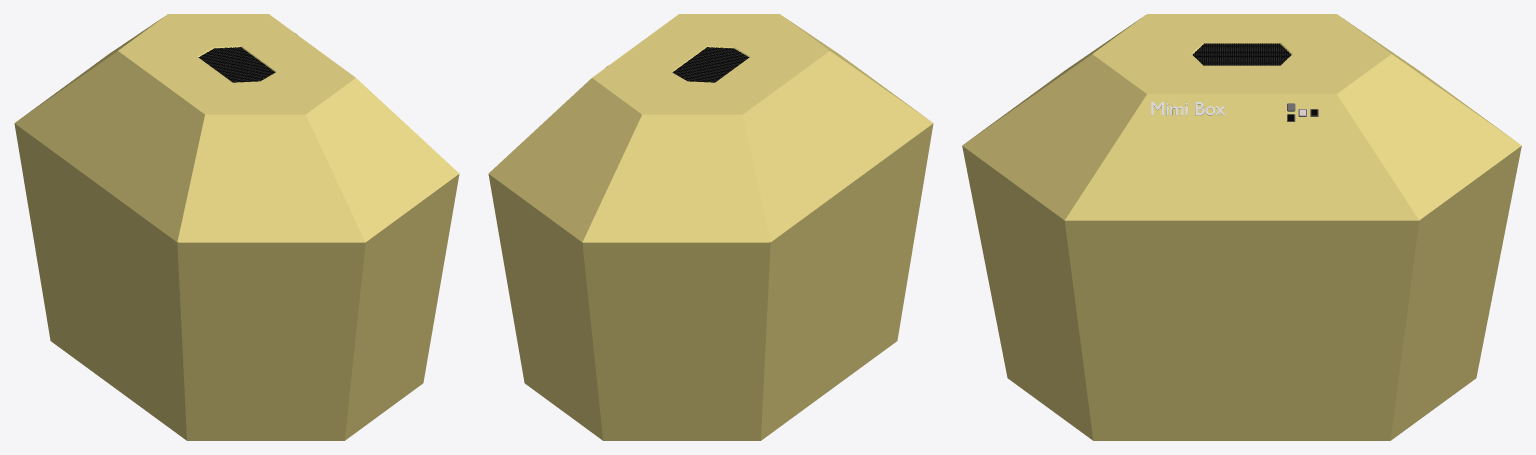
Rendered from Mimi box.glb.
The picture shows the model from 3 angles, left to right: view 1: azimuth 30°, elevation 25°; view 2: azimuth 150°, elevation 25°; view 3: azimuth 270°, elevation 25°; orthographic projection. The views are drawn at different scales.
Visible parts, largest first — view 1: Main Box, Speaker Grill; view 2: Main Box, Speaker Grill; view 3: Main Box, Speaker Grill.
Part boxes in pixels (bbox=[...]): Main Box: bbox=[14, 14, 459, 440]; Speaker Grill: bbox=[198, 47, 275, 82]; Main Box: bbox=[488, 14, 933, 440]; Speaker Grill: bbox=[672, 47, 749, 82]; Main Box: bbox=[962, 14, 1521, 440]; Speaker Grill: bbox=[1192, 43, 1291, 65].
Bounding box in the file's own units: 2.75 × 2.77 × 4.34.
Materials: 13 (2 with a texture image).
